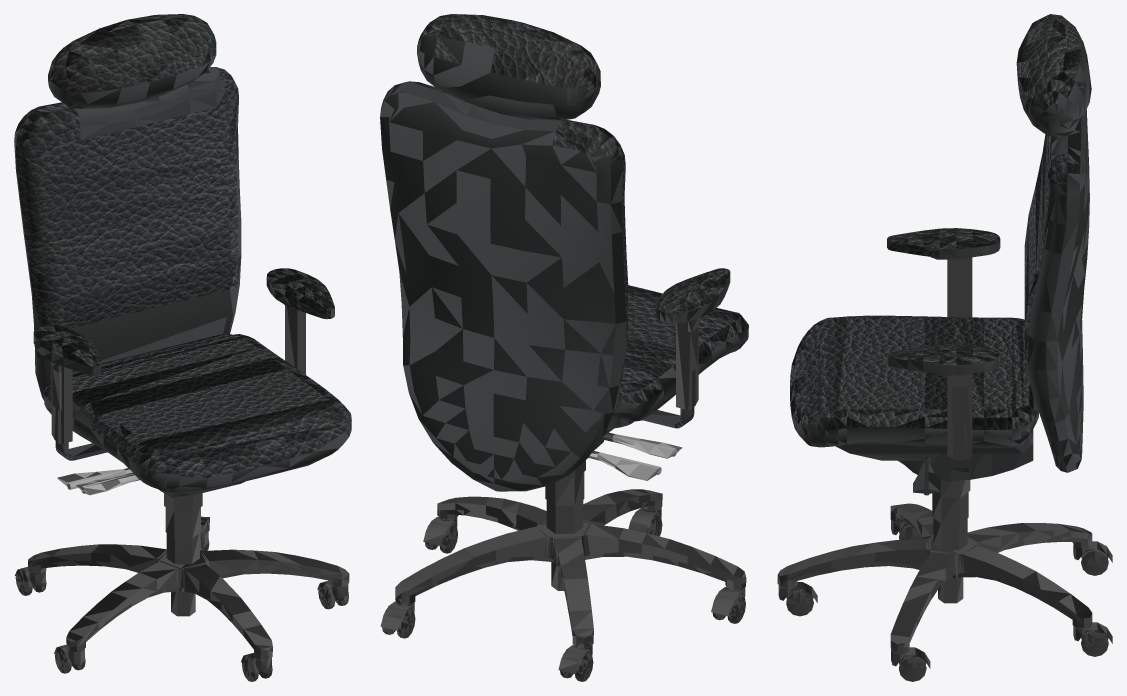
Rendered from chair7.glb.
3 renders of one model, left to right at view 1: azimuth 30°, elevation 25°; view 2: azimuth 150°, elevation 25°; view 3: azimuth 270°, elevation 25°, orthographic. The views are drawn at different scales.
Parts seen in each view (by area): view 1: officeChair3; view 2: officeChair3; view 3: officeChair3.
Part boxes in pixels (x1,y1,x2,y2): officeChair3: (14,14,351,681); officeChair3: (380,14,748,681); officeChair3: (777,14,1112,681).
Bounding box in the file's own units: 1.6 × 3.06 × 1.61.
3 materials, 1 textured.
